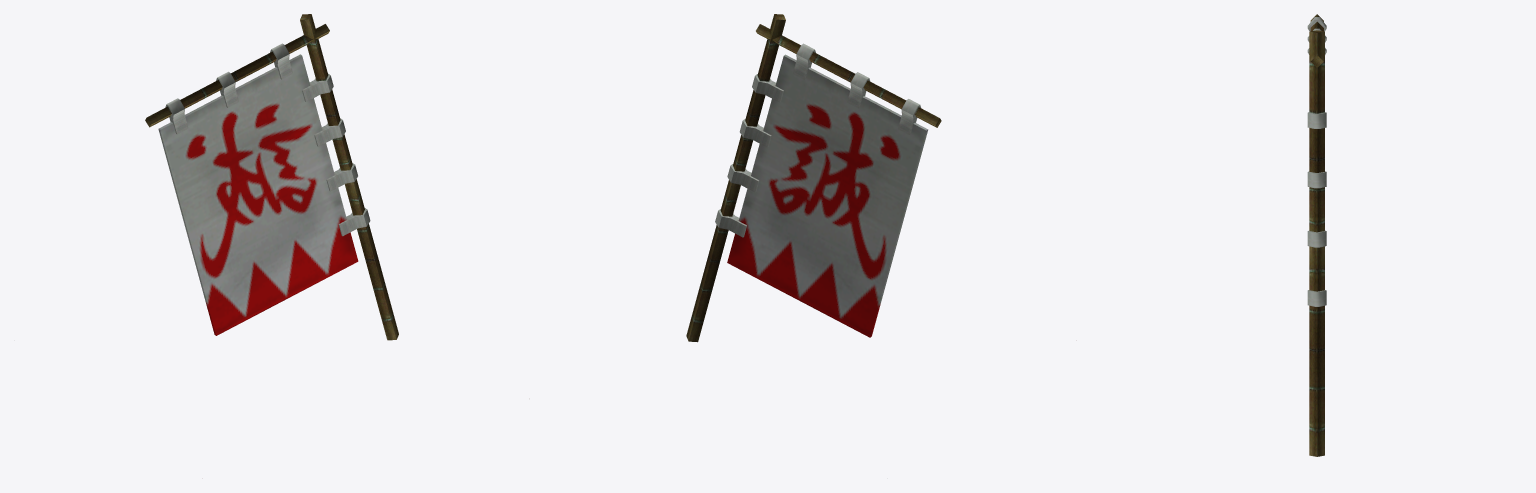
The model's file is awabi.ico.obj.
3 views of the same model, side by side, from view 1: azimuth 30°, elevation 25°; view 2: azimuth 150°, elevation 25°; view 3: azimuth 270°, elevation 25° (orthographic). The views are drawn at different scales.
Bounding box in the file's own units: 4.88 × 4.91 × 4.88.
1 material, 1 textured.
